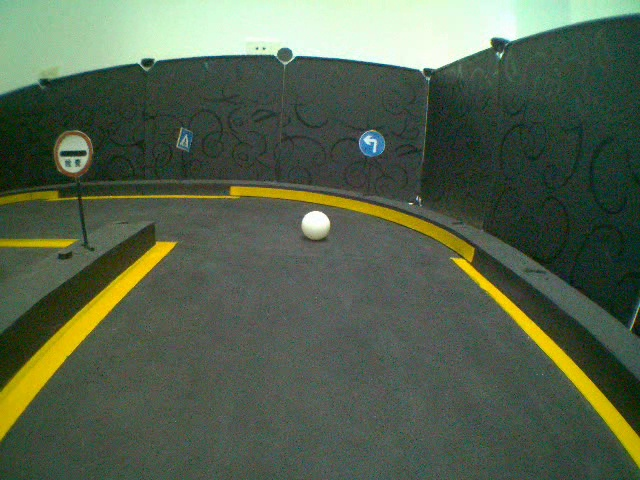ball: (301, 207, 332, 243)
